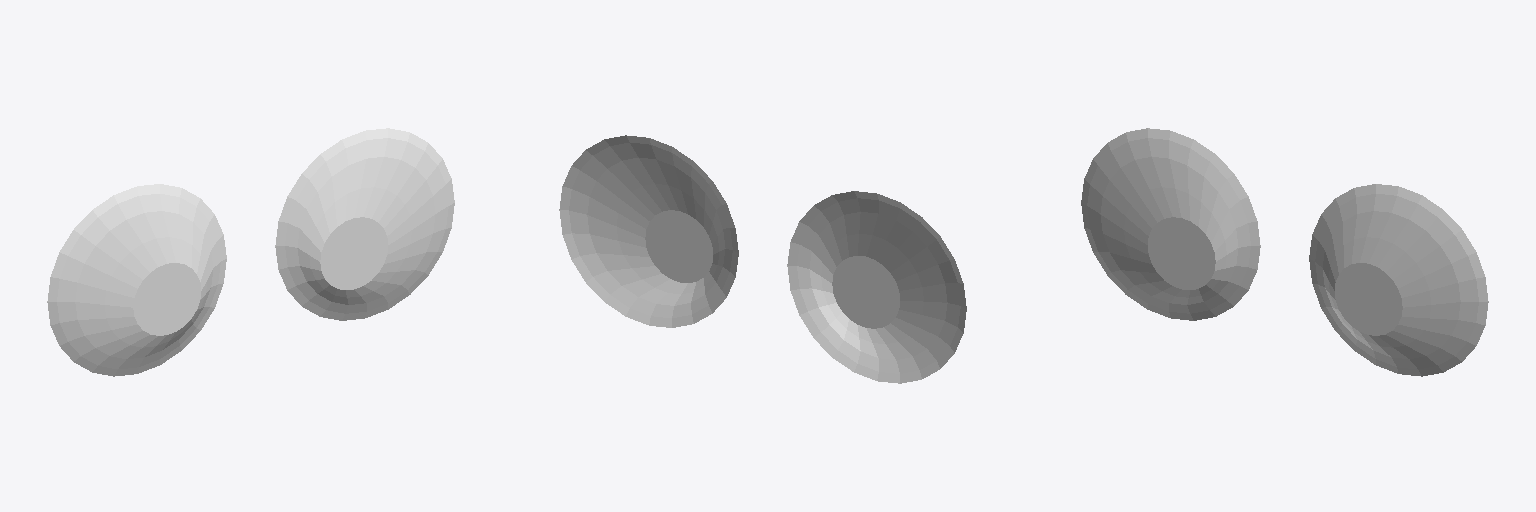
Rendered from eyeball.obj.
The picture shows the model from 3 angles: view 1: azimuth 30°, elevation 25°; view 2: azimuth 150°, elevation 25°; view 3: azimuth 330°, elevation 25°; orthographic projection.
Parts seen in each view (by area): view 1: body:Mesh; view 2: body:Mesh; view 3: body:Mesh.
Boxes of the visible parts, x1=… form: body:Mesh: x1=47, y1=128, x2=454, y2=376; body:Mesh: x1=559, y1=135, x2=966, y2=383; body:Mesh: x1=1081, y1=128, x2=1488, y2=376.
Size of the model in its own units: 1.8 by 0.7922 by 0.0745.